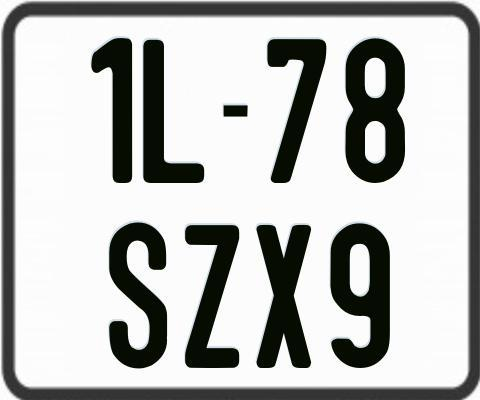1: (88, 37, 131, 184)
7: (265, 38, 324, 183)
8: (342, 36, 403, 183)
9: (329, 220, 391, 369)
L: (143, 39, 209, 188)
S: (108, 222, 171, 369)
X: (256, 225, 314, 373)
Z: (182, 224, 242, 369)
